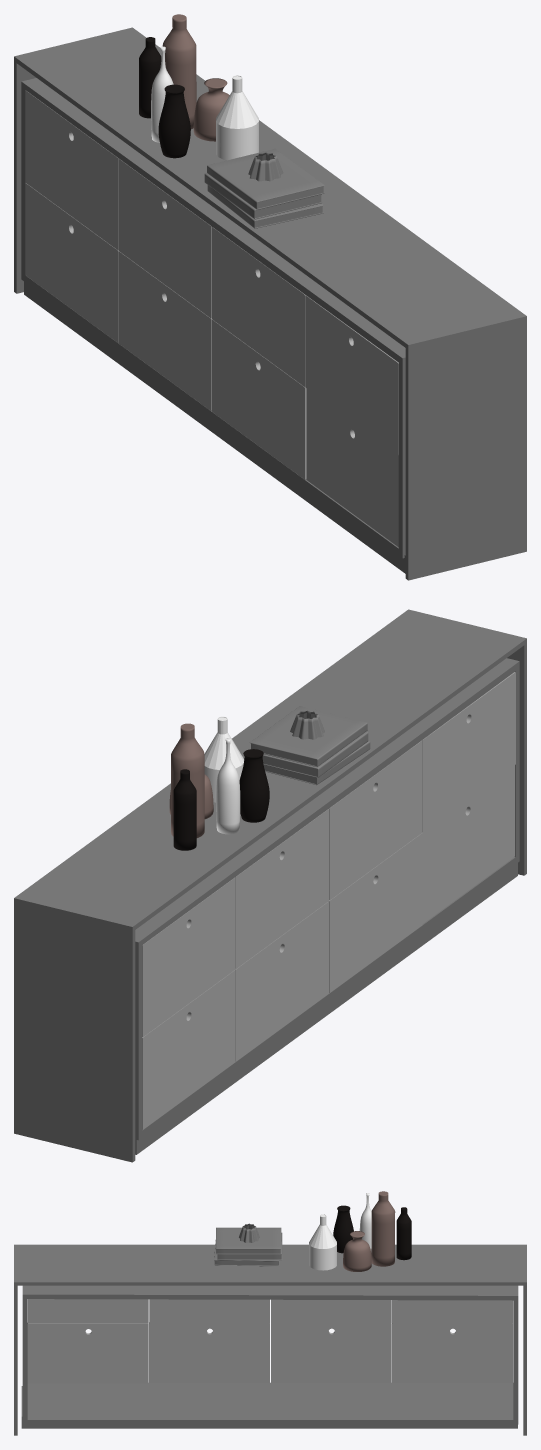
The model's file is credensa.fbx.
The picture shows the model from 3 angles, top to bottom: view 1: azimuth 30°, elevation 25°; view 2: azimuth 150°, elevation 25°; view 3: azimuth 270°, elevation 25°; orthographic projection. The views are drawn at different scales.
Visible parts, largest first — view 1: Credensa, book 005, Cylinder2939, Circle009, Circle005, Circle007, book 006, Circle008, book 004, Circle006, Star001; view 2: Credensa, book 005, Circle009, Circle005, Circle006, Circle008, Cylinder2939, book 006, book 004, Star001; view 3: Credensa, Circle009, book 005, Cylinder2939, Circle007, Circle008, Circle005, book 006, book 004, Circle006, Star001.
Part boxes in pixels (bbox=[...]): Credensa: bbox=[14, 27, 526, 580]; book 005: bbox=[207, 149, 324, 209]; Cylinder2939: bbox=[216, 75, 258, 160]; Circle009: bbox=[162, 14, 196, 129]; Circle005: bbox=[158, 84, 190, 158]; Circle007: bbox=[193, 78, 229, 141]; book 006: bbox=[204, 173, 322, 219]; Circle008: bbox=[139, 37, 161, 118]; book 004: bbox=[207, 185, 323, 228]; Circle006: bbox=[151, 46, 173, 142]; Star001: bbox=[248, 152, 283, 181]; Credensa: bbox=[14, 609, 526, 1162]; book 005: bbox=[250, 706, 367, 766]; Circle009: bbox=[171, 723, 204, 837]; Circle005: bbox=[239, 749, 269, 822]; Circle006: bbox=[216, 738, 240, 834]; Circle008: bbox=[173, 769, 196, 850]; Cylinder2939: bbox=[204, 716, 243, 802]; book 006: bbox=[262, 731, 368, 777]; book 004: bbox=[263, 741, 370, 785]; Star001: bbox=[290, 710, 324, 739]; Credensa: bbox=[14, 1244, 526, 1435]; Circle009: bbox=[371, 1191, 395, 1266]; book 005: bbox=[216, 1227, 281, 1254]; Cylinder2939: bbox=[309, 1214, 336, 1270]; Circle007: bbox=[343, 1231, 371, 1271]; Circle008: bbox=[396, 1207, 411, 1260]; Circle005: bbox=[333, 1205, 353, 1253]; book 006: bbox=[217, 1232, 282, 1260]; book 004: bbox=[214, 1240, 279, 1266]; Circle006: bbox=[359, 1193, 371, 1252]; Star001: bbox=[239, 1223, 259, 1242].
Size of what is drawn, in the model's own units: 568 by 1555 by 3253.
